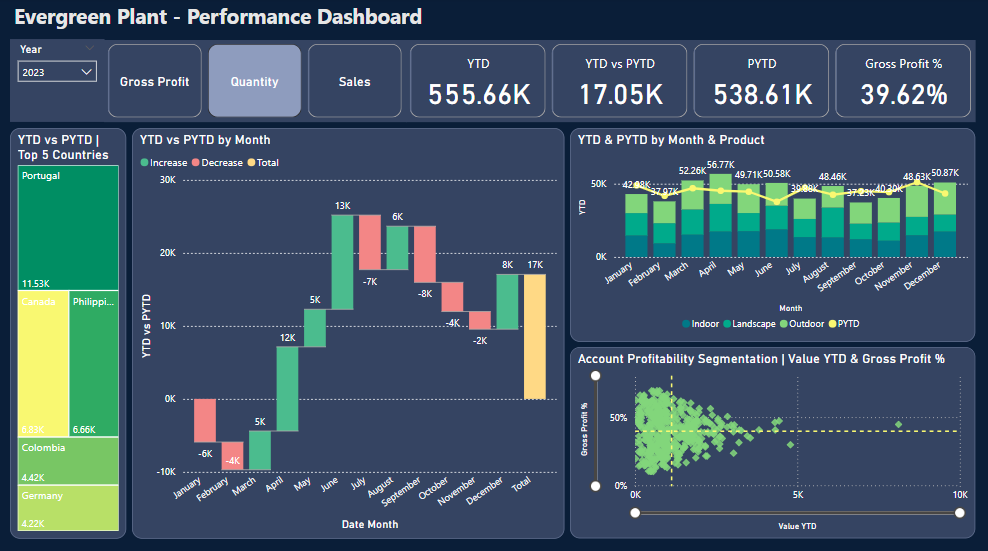

What the dashboard file says about the page in this screenshot:
{"tool":"powerbi","page":{"name":"Performance Report","canvas":[1280,720],"ordinal":0},"visuals":[{"type":"cardVisual","title":"Gross","fields":{"Data":["_Measures.Switch YTD","_Measures.YTD vs PYTD","_Measures.Switch PYTD","_Measures.GP%"]},"box":[527.7,54.2,735.5,105.8],"z":0},{"type":"advancedSlicerVisual","fields":{"Values":["Slicer_Values.Values"]},"box":[138.1,54.2,389.7,105.8],"z":1000},{"type":"slicer","fields":{"Values":["Dim_Date.Date.Variation.Date Hierarchy.Year"]},"box":[16.3,53.5,121.8,106.9],"z":2000},{"type":"waterfallChart","fields":{"Category":["Dim_Date.Date.Variation.Date Hierarchy.Month","Dim_Account.country","Dim_Products.Produt_Type","Dim_Products.Product_Name"],"Y":["_Measures.YTD vs PYTD"]},"box":[174.3,167.2,558.4,530.1],"z":3000},{"type":"lineStackedColumnComboChart","title":"YTD & PYTD by Month & Product","fields":{"Y":["_Measures.Switch YTD"],"Y2":["_Measures.Switch PYTD"],"Category":["Dim_Date.Date.Variation.Date Hierarchy.Month"],"Series":["Dim_Products.Produt_Type"]},"box":[739.8,167.2,523,276.4],"z":4000},{"type":"treemap","title":"YTD vs PYTD | Top 5 Countries","fields":{"Group":["Dim_Account.country"],"Values":["_Measures.YTD vs PYTD"]},"box":[17,167.2,150.2,530.1],"z":5000},{"type":"scatterChart","title":"Account Profitability Segmentation | Value YTD & Gross Profit %","fields":{"X":["_Measures.Switch YTD"],"Category":["Dim_Account.Account"],"Y":["_Measures.GP%"]},"box":[739.8,450.7,523,246.6],"z":6000},{"type":"textbox","box":[16.8,0,610.3,52.9],"z":7000}]}

Visuals, with their boxes in screenshot pixels (x1, y1, x2, y2), scaled from the page's 1280x720 canvas onto the 988x551 screenshot:
"Gross" cardVisual: [407, 41, 975, 122]
advancedSlicerVisual - Slicer_Values.Values: [107, 41, 407, 122]
slicer - Dim_Date.Date.Variation.Date Hierarchy.Year: [13, 41, 107, 123]
waterfallChart - Dim_Date.Date.Variation.Date Hierarchy.Month x Dim_Account.country: [135, 128, 566, 534]
"YTD & PYTD by Month & Product" lineStackedColumnComboChart: [571, 128, 975, 339]
"YTD vs PYTD | Top 5 Countries" treemap: [13, 128, 129, 534]
"Account Profitability Segmentation | Value YTD & Gross Profit %" scatterChart: [571, 345, 975, 534]
textbox: [13, 0, 484, 40]
